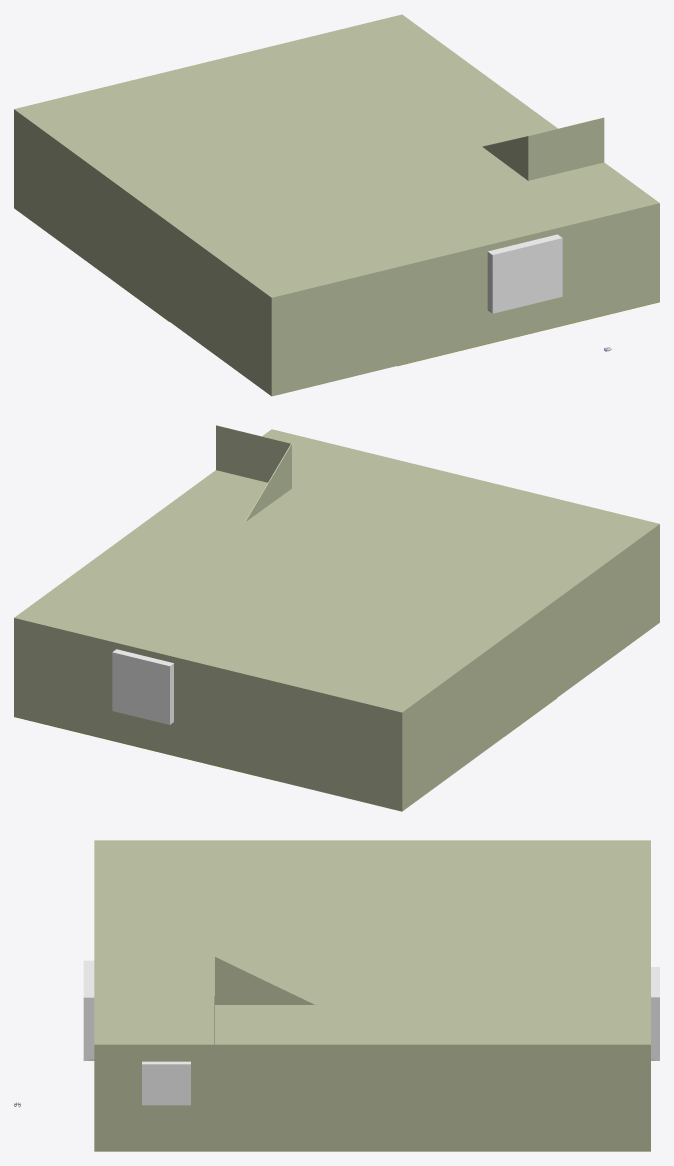
The model's file is upperStairs.fbx.
3 views of the same model, one above another, from view 1: azimuth 30°, elevation 25°; view 2: azimuth 150°, elevation 25°; view 3: azimuth 270°, elevation 25° (orthographic). The views are drawn at different scales.
Visible parts, largest first — view 1: Walls, CTRL_Hole.003; view 2: Walls, CTRL_Hole.006, Floor; view 3: Walls, CTRL_Hole.002, CTRL_Hole.003, CTRL_Hole.006, Floor.
Part boxes in pixels (x1,y1,x2,y2): Walls: (14, 14, 659, 396); CTRL_Hole.003: (487, 234, 562, 313); Walls: (14, 425, 659, 810); CTRL_Hole.006: (112, 649, 173, 724); Floor: (14, 698, 556, 811); Walls: (94, 840, 650, 1151); CTRL_Hole.002: (142, 1061, 190, 1105); CTRL_Hole.003: (83, 960, 94, 1060); CTRL_Hole.006: (651, 967, 659, 1060); Floor: (94, 1151, 650, 1151).
Bounding box in the file's own units: 1079 × 386 × 1422.
